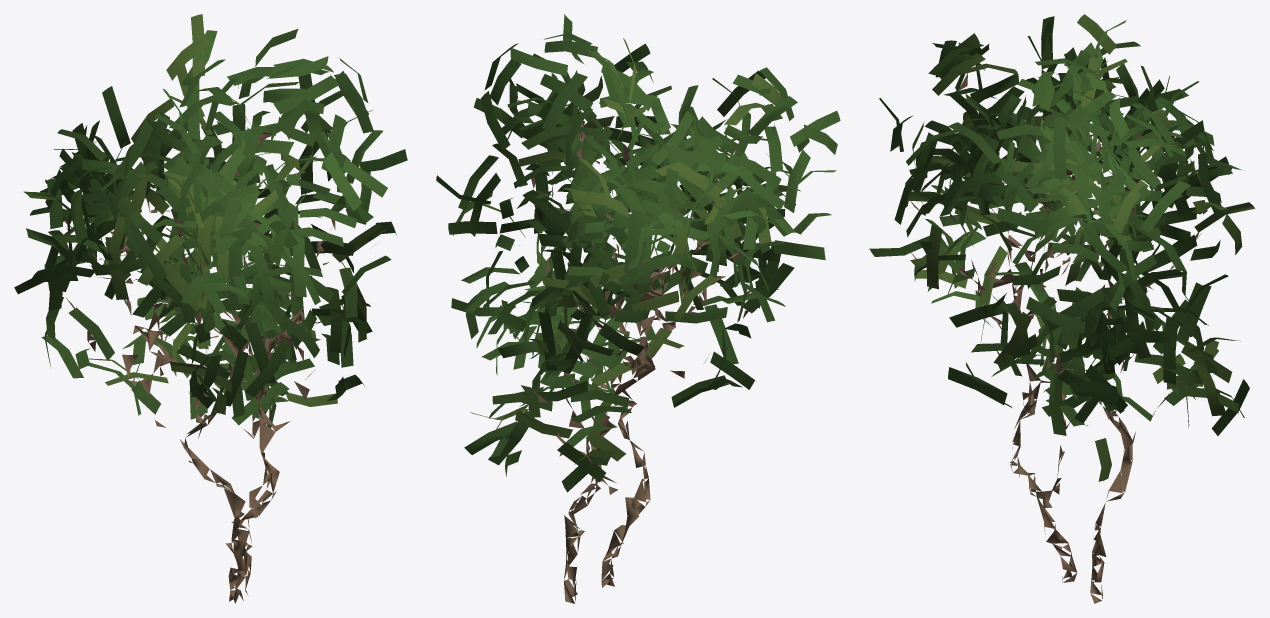
The model's file is arvore_3.glb.
3 views of the same model, side by side, from view 1: azimuth 30°, elevation 25°; view 2: azimuth 150°, elevation 25°; view 3: azimuth 270°, elevation 25° (orthographic). The views are drawn at different scales.
Visible parts, largest first — view 1: arvore_3; view 2: arvore_3; view 3: arvore_3.
Boxes of the visible parts, box(x1,y1,x2,y2) form: arvore_3: box(14, 14, 407, 603); arvore_3: box(436, 14, 840, 603); arvore_3: box(869, 14, 1254, 603).
Size of the model in its own units: 1.89 by 2.8 by 1.73.
